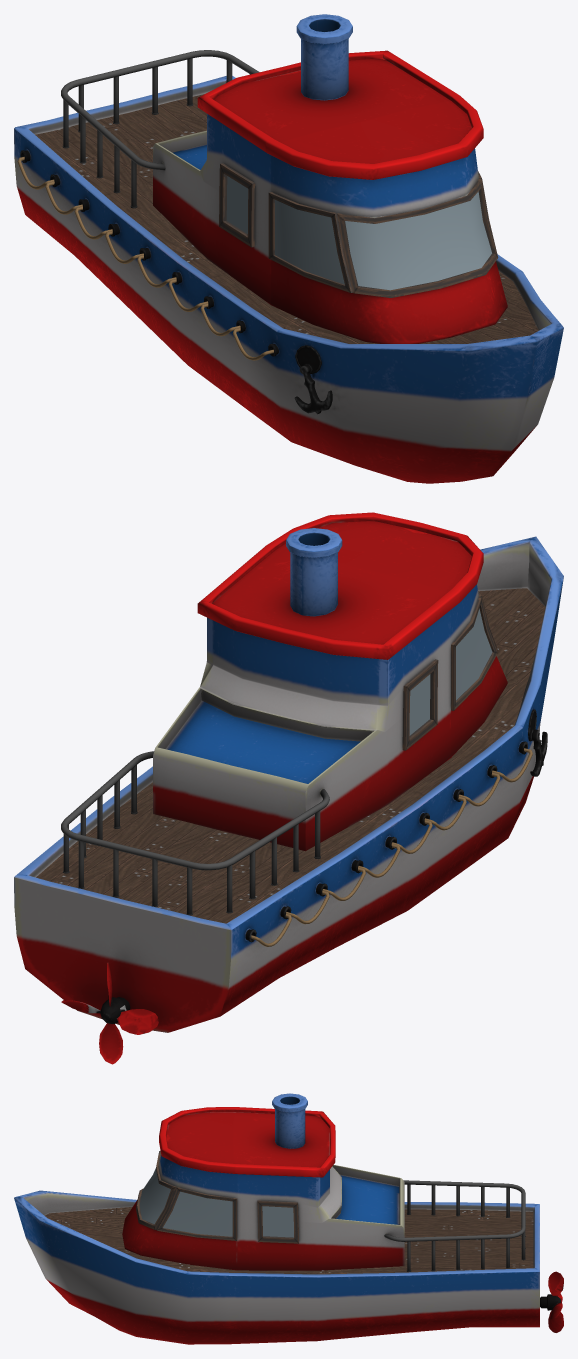
Rendered from boat_STWANZF.obj.
3 views of the same model, one above another, from view 1: azimuth 30°, elevation 25°; view 2: azimuth 150°, elevation 25°; view 3: azimuth 270°, elevation 25° (orthographic). The views are drawn at different scales.
Parts seen in each view (by area): view 1: boat, windows, deck, window_frames, rope, anchor; view 2: boat, deck, window_frames, windows, propeller, rope; view 3: boat, deck, windows, window_frames, propeller.
Boxes of the visible parts, x1,y1,x2,y2 form: boat: (14,14,563,483); windows: (226,176,491,290); deck: (35,94,538,343); window_frames: (219,163,498,297); rope: (17,156,273,360); anchor: (294,365,332,414); boat: (14,512,563,1032); deck: (36,588,545,923); window_frames: (402,591,497,750); windows: (409,608,492,735); propeller: (61,962,158,1064); rope: (251,748,532,946); boat: (14,1093,539,1344); deck: (45,1207,533,1274); windows: (139,1168,293,1237); window_frames: (136,1150,298,1243); propeller: (540,1271,563,1332).
Size of the model in its own units: 167 by 229 by 481.
Materials: 4 (4 with a texture image).
